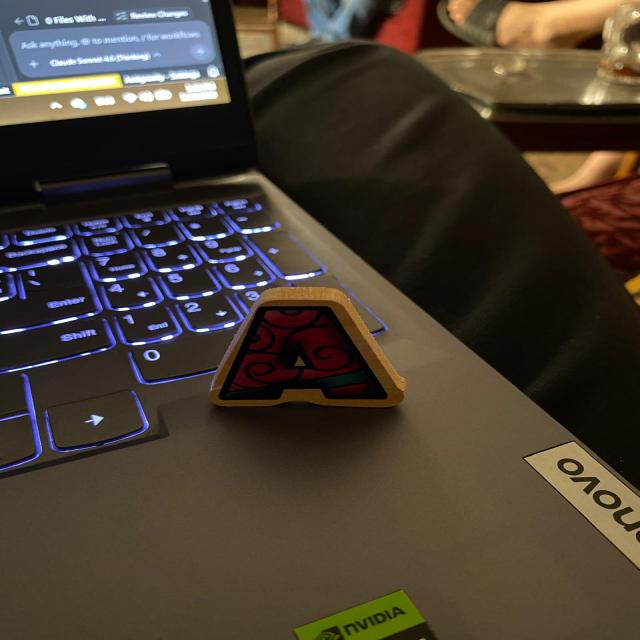A: (210, 286, 405, 406)
